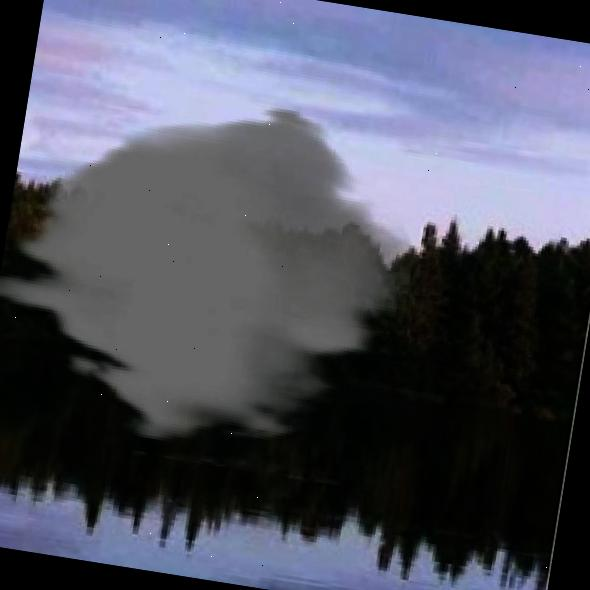smoke: (0, 66, 433, 477)
